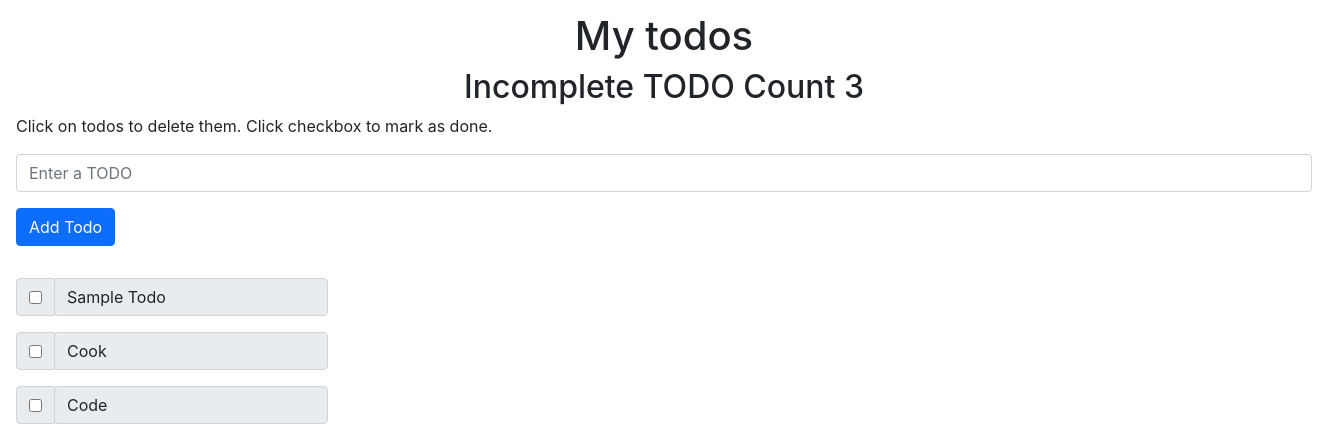
Test: App Component › should delete the todo on click
Step 1. Click the element with test id "todo-item-2" → click(191, 405), box 54,386 -> 328,424
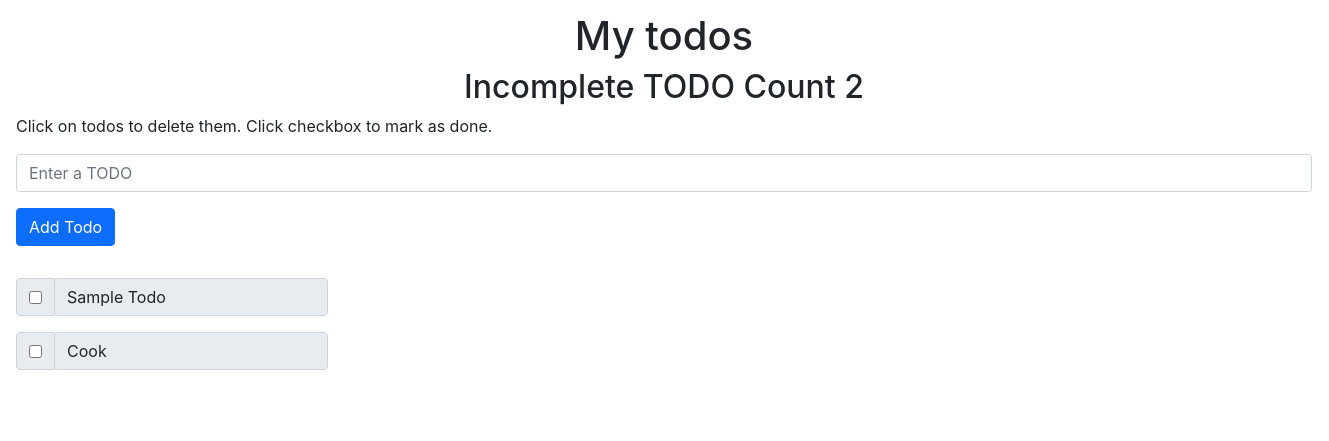
Expected: the element with test id "todo-item-2" is gone
